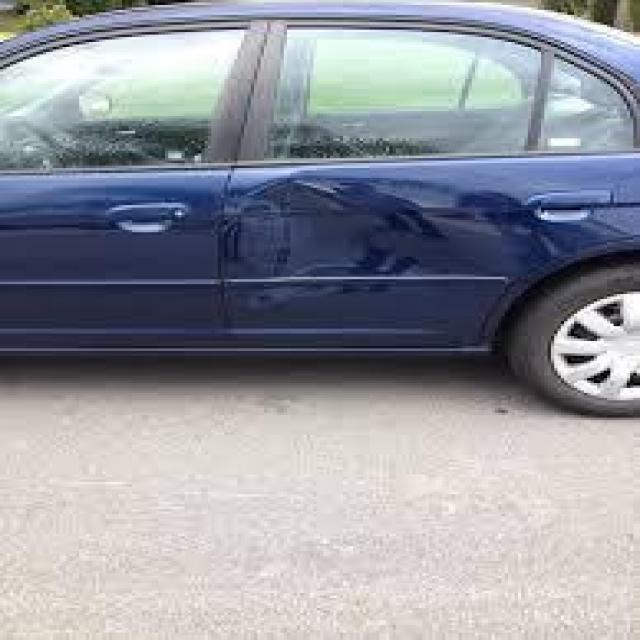damaged: (218, 172, 495, 306)
